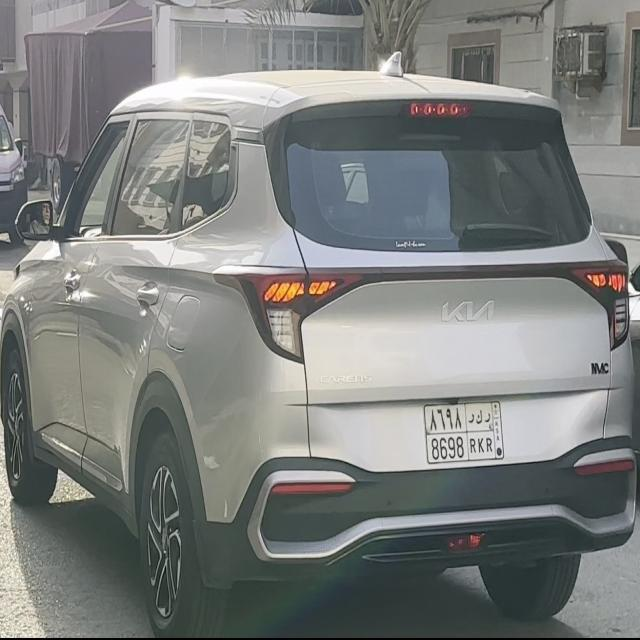Car-plate: (412, 390, 511, 474)
